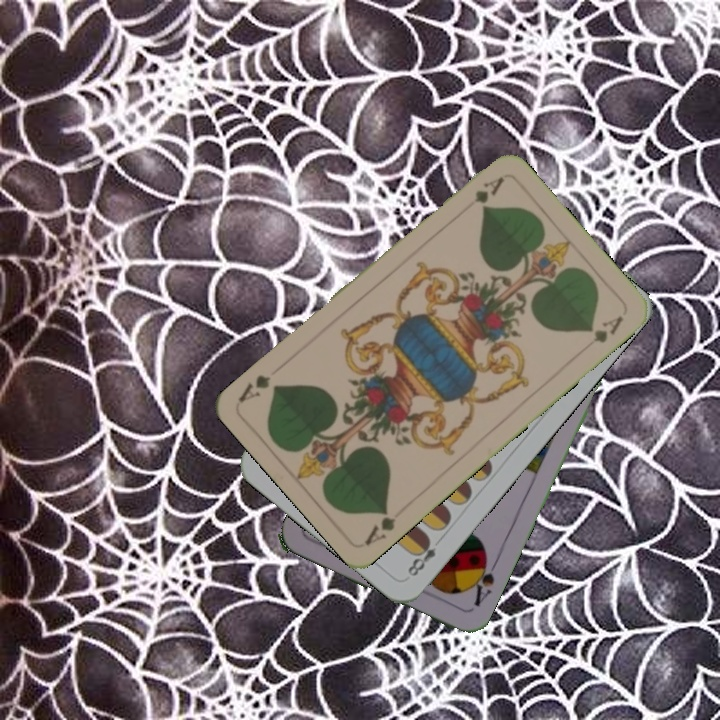E8: (403, 532, 446, 579)
GA: (361, 504, 399, 548), (470, 172, 507, 207)
SA: (464, 553, 501, 610)
